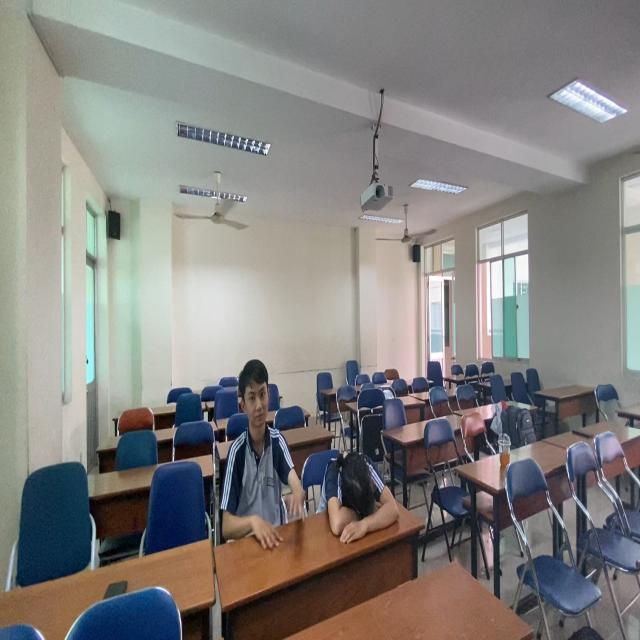sleep: (314, 441, 407, 546)
